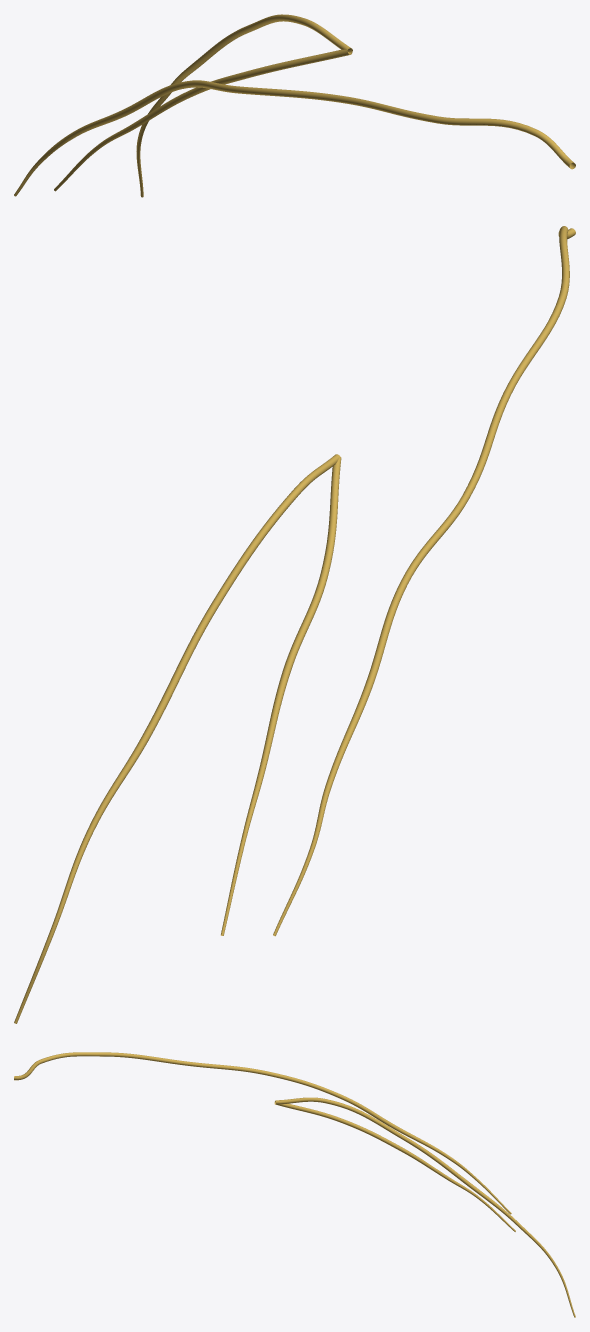
3 renders of one model, top to bottom at view 1: azimuth 30°, elevation 25°; view 2: azimuth 150°, elevation 25°; view 3: azimuth 270°, elevation 25°, orthographic. The views are drawn at different scales.
Visible parts, largest first — view 1: 左侧尺神经指掌侧固有神经; view 2: 左侧尺神经指掌侧固有神经; view 3: 左侧尺神经指掌侧固有神经.
Part boxes in pixels (x1,y1,x2,y2): 左侧尺神经指掌侧固有神经: (14, 14, 575, 197); 左侧尺神经指掌侧固有神经: (14, 226, 575, 1023); 左侧尺神经指掌侧固有神经: (14, 1052, 575, 1317).
Size of the model in its own units: 0.0446 by 0.0924 by 0.1925.
